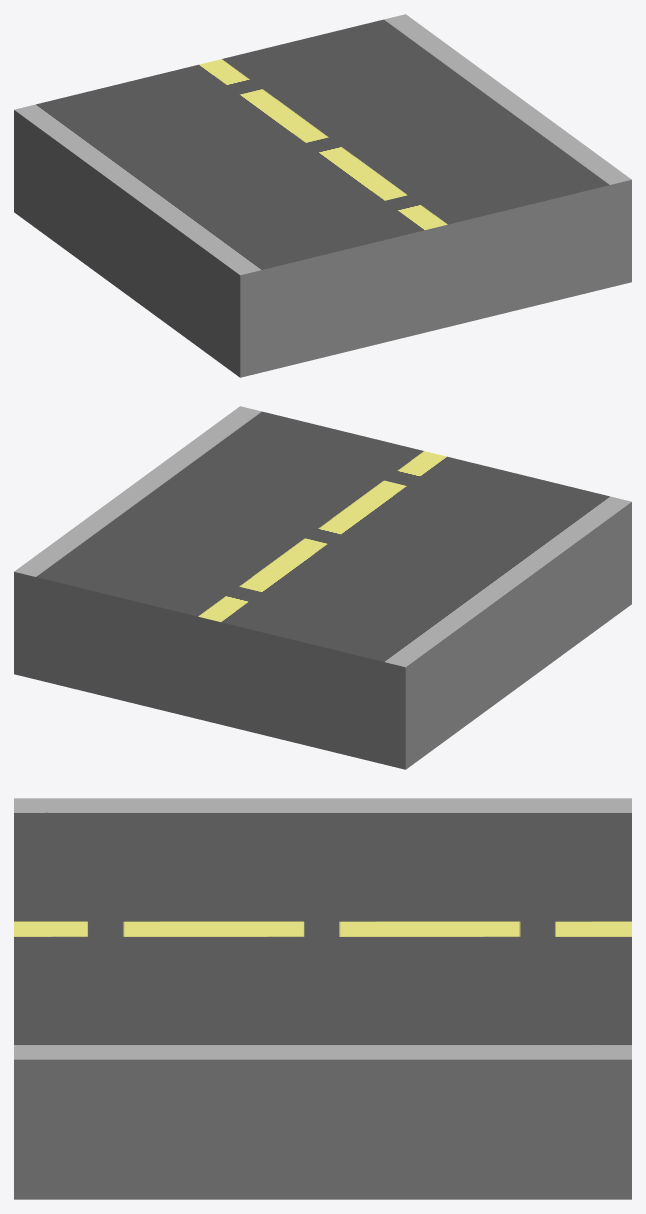
File: 2025-11-26-Boswell-StraightRoad-v001.fbx
The picture shows the model from 3 angles, top to bottom: view 1: azimuth 30°, elevation 25°; view 2: azimuth 150°, elevation 25°; view 3: azimuth 270°, elevation 25°; orthographic projection. The views are drawn at different scales.
Visible parts, largest first — view 1: Cube; view 2: Cube; view 3: Cube.
Boxes of the visible parts, <box> form: Cube: <box>14,14,631,377</box>; Cube: <box>14,406,631,769</box>; Cube: <box>14,798,631,1199</box>.
Bounding box in the file's own units: 100 × 25 × 100.
2 materials, 1 textured.
